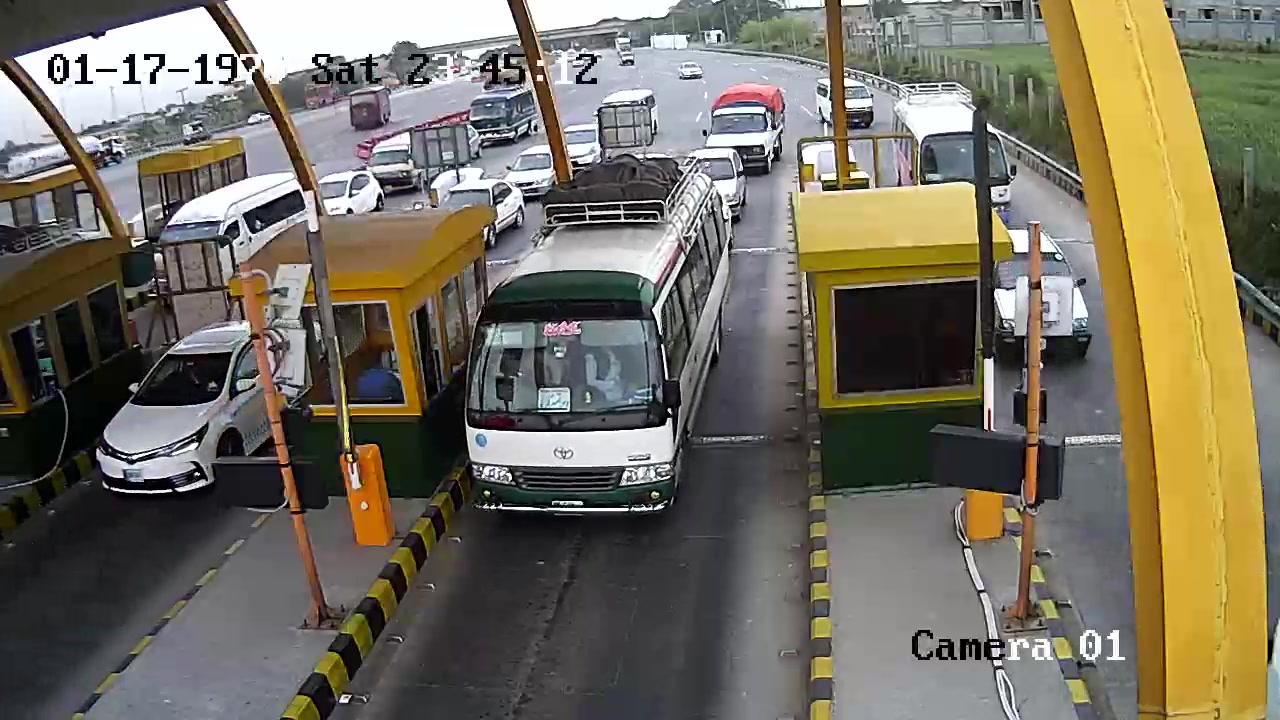F3: (456, 143, 744, 542)
